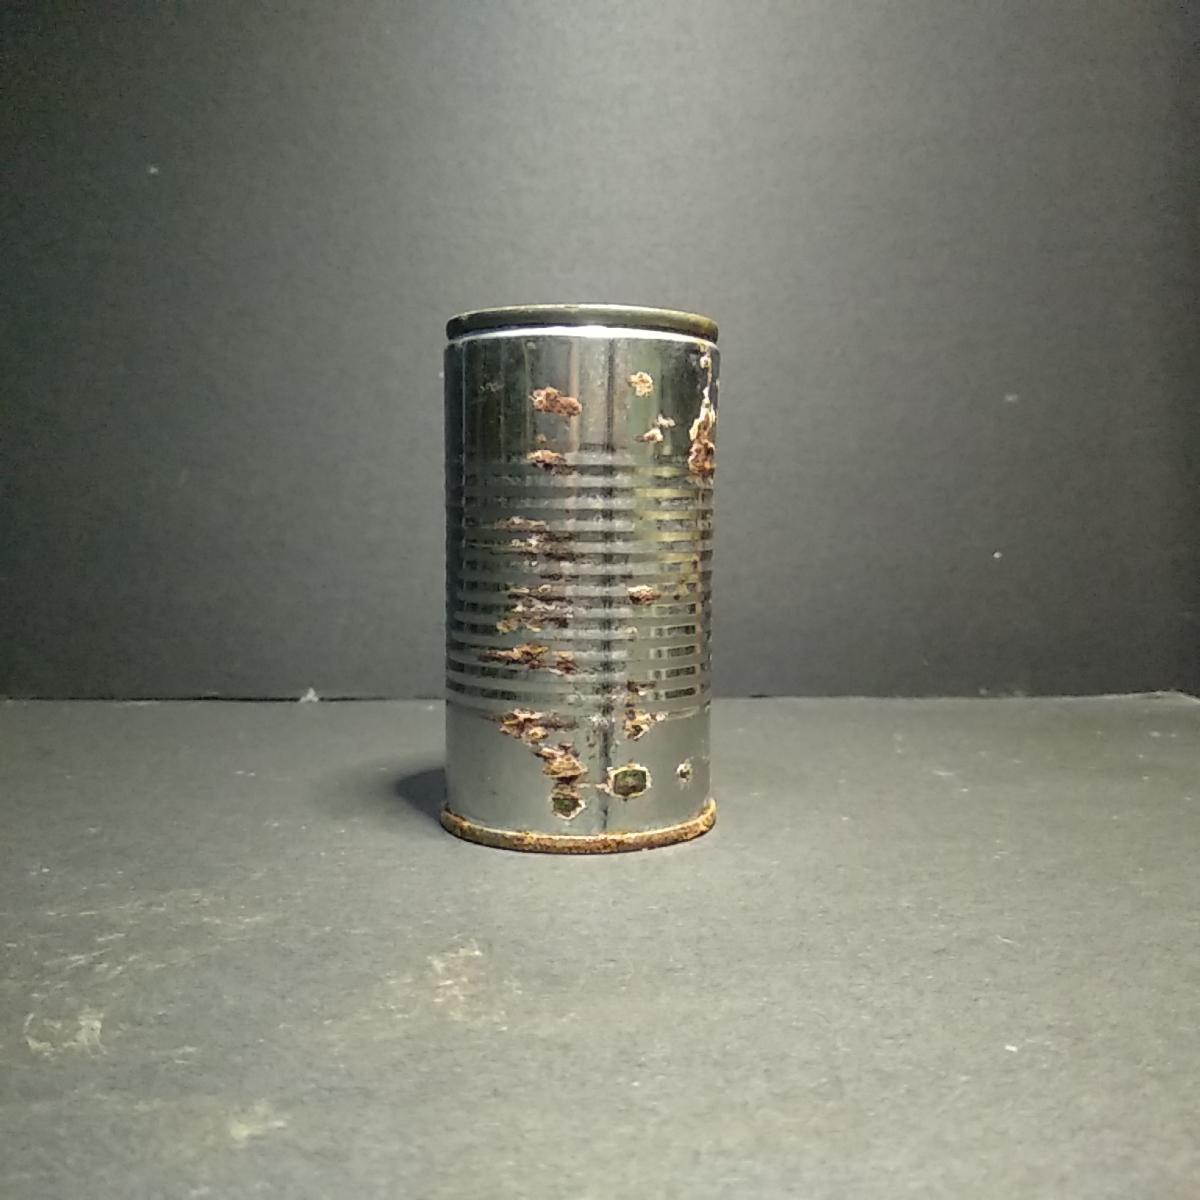Rusted: (434, 295, 726, 864)
